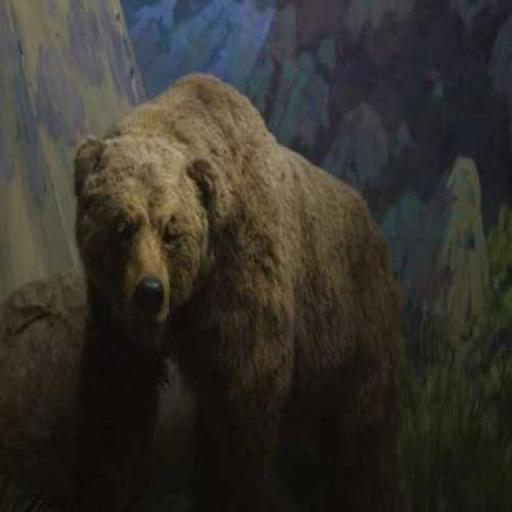Bear: (72, 70, 408, 510)
